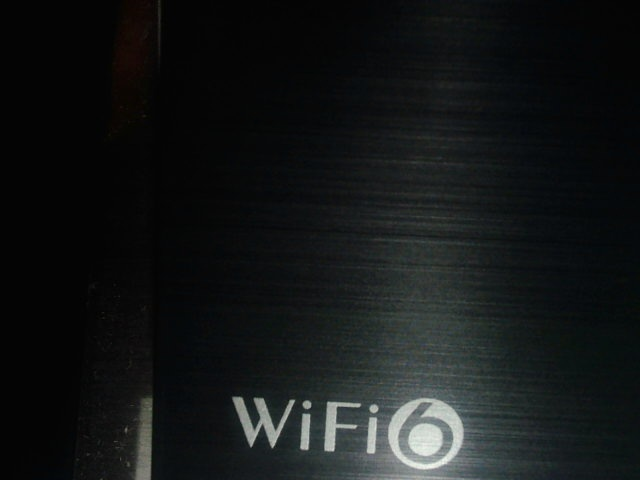AK_ZTEWIFI6Black: (220, 385, 473, 474)
